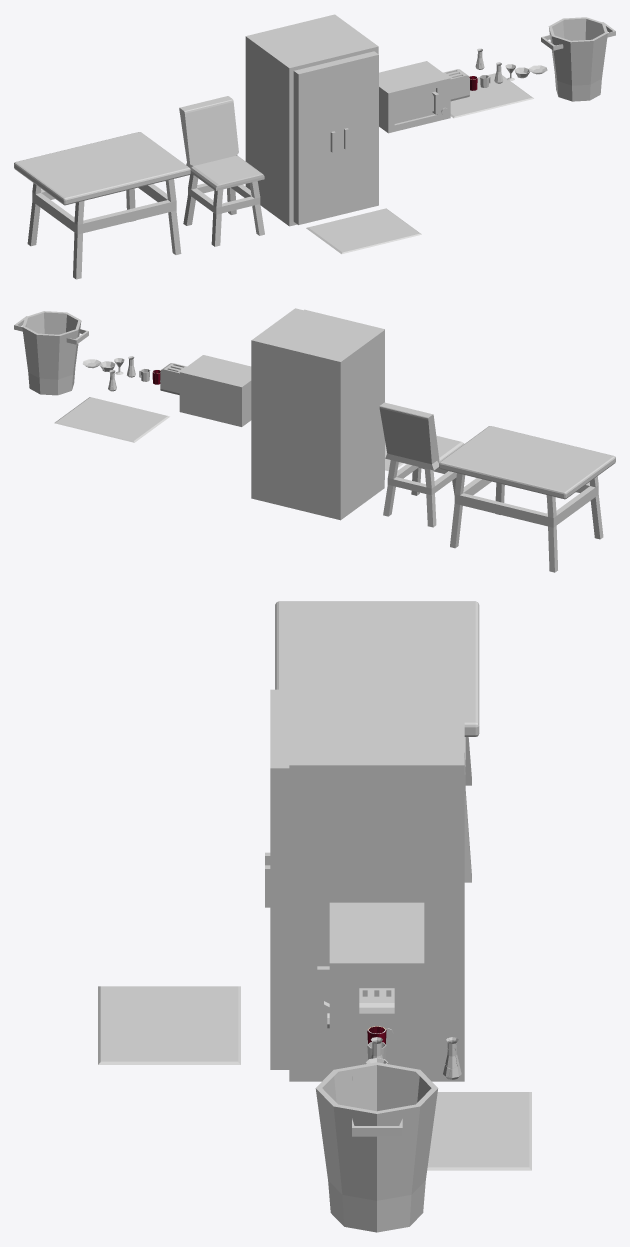
The model's file is dapur.fbx.
3 views of the same model, one above another, from view 1: azimuth 30°, elevation 25°; view 2: azimuth 150°, elevation 25°; view 3: azimuth 270°, elevation 25° (orthographic). The views are drawn at different scales.
Visible parts, largest first — view 1: Cube, Cube.011, Cube.009, Circle.006, Cube.001, Plane, Cube.010, Plane.001, Cube.005; view 2: Cube, Cube.011, Circle.006, Cube.001, Cube.009, Plane.001, Cube.010, Cube.005; view 3: Cube, Cube.011, Circle.006, Cube.001, Plane, Plane.001, Cube.005.
Boxes of the visible parts, x1,y1,x2,y2 form: Cube: (245,14,378,226); Cube.011: (14,132,190,279); Cube.009: (179,96,264,190); Circle.006: (541,17,615,101); Cube.001: (379,61,450,133); Plane: (306,208,421,254); Cube.010: (183,173,264,246); Plane.001: (450,73,533,118); Cube.005: (443,69,469,101); Cube: (251,308,384,520); Cube.011: (439,426,615,572); Circle.006: (14,311,88,395); Cube.001: (179,355,251,426); Cube.009: (379,402,463,470); Plane.001: (54,397,169,442); Cube.010: (383,460,456,527); Cube.005: (160,363,186,395); Cube: (270,678,464,1081); Cube.011: (275,601,479,882); Circle.006: (315,1062,438,1232); Cube.001: (329,902,424,1043); Plane: (98,986,240,1064); Plane.001: (427,1092,531,1170); Cube.005: (359,988,394,1052).
Bounding box in the file's own units: 9.72 × 2.57 × 3.2.
